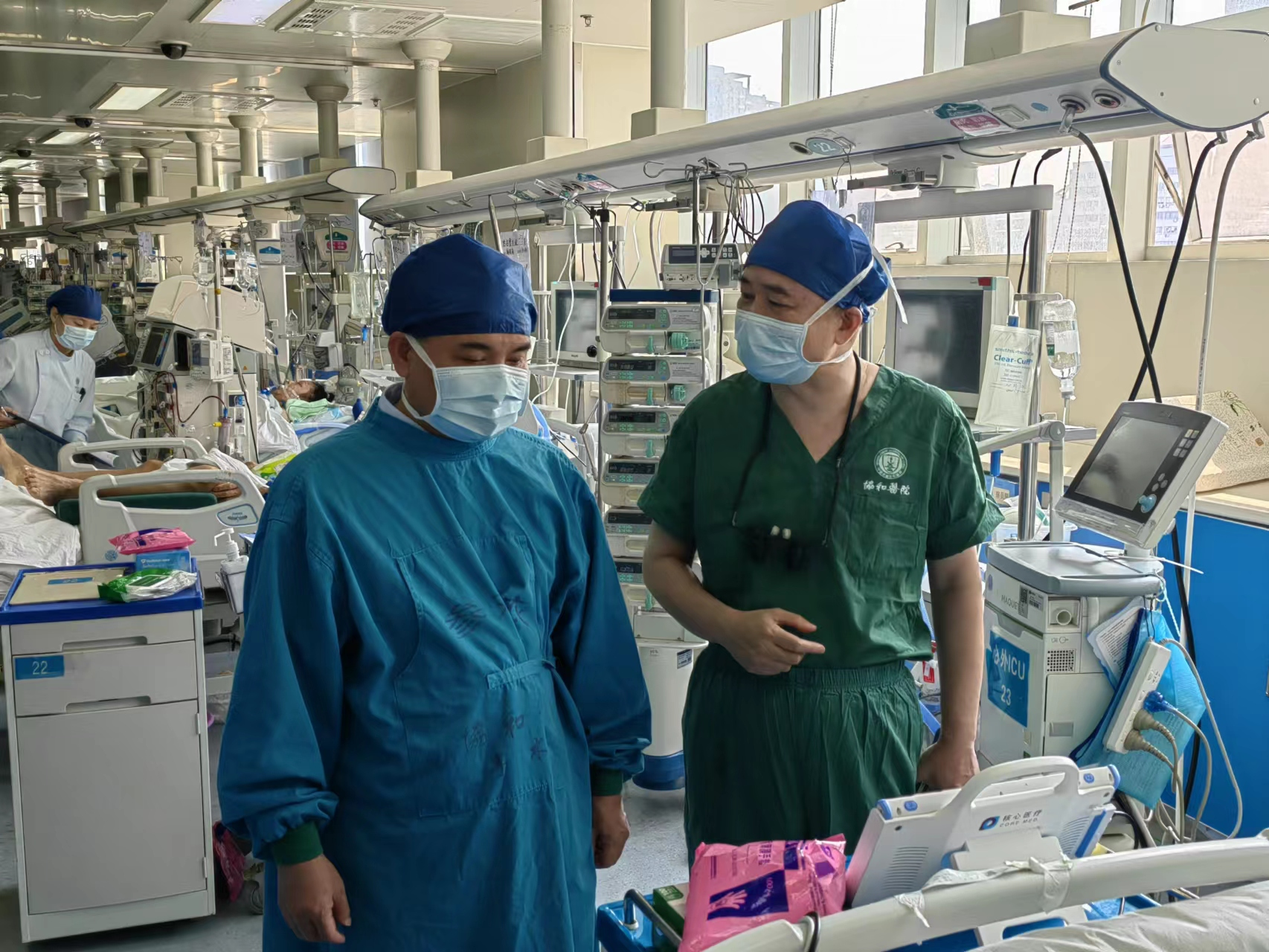with_mask: (379, 255, 538, 452), (730, 219, 873, 390)
